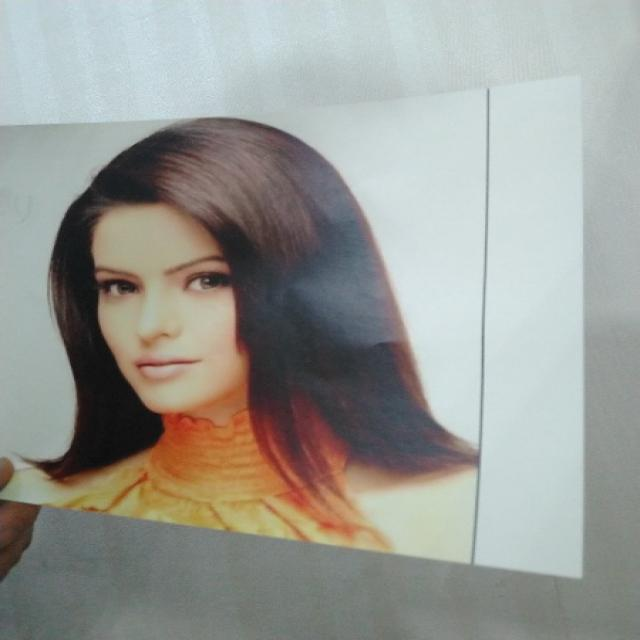photo: (3, 70, 610, 588)
